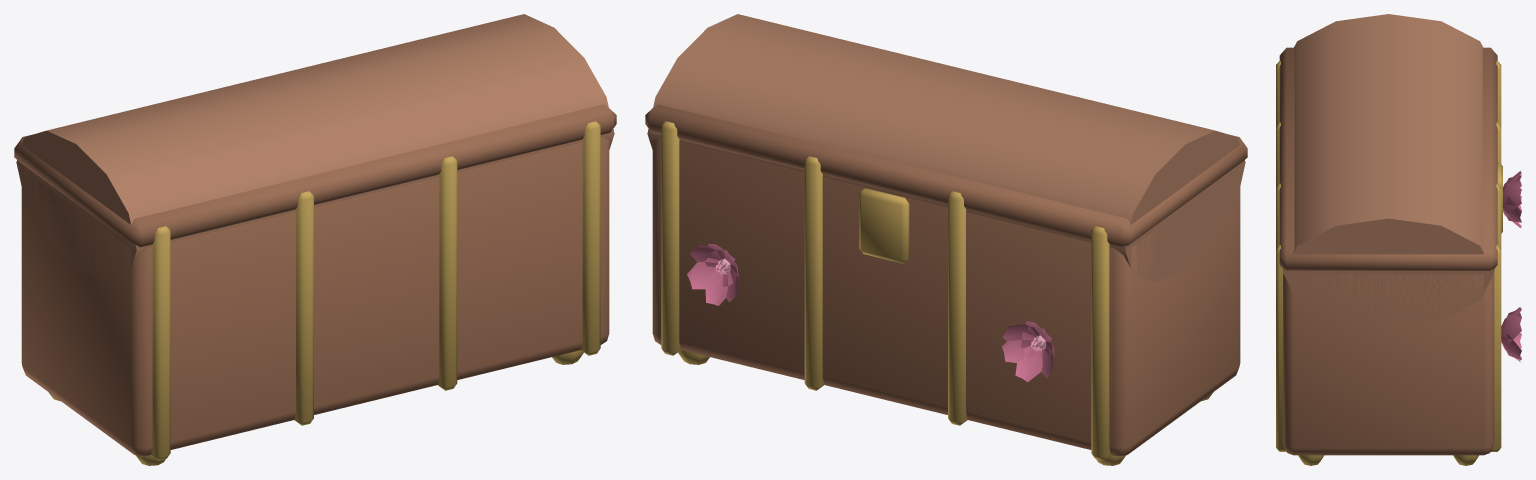
Rendered from cradle_chest.glb.
The picture shows the model from 3 angles, left to right: view 1: azimuth 30°, elevation 25°; view 2: azimuth 150°, elevation 25°; view 3: azimuth 270°, elevation 25°; orthographic projection. The views are drawn at different scales.
Parts seen in each view (by area): view 1: cradle_chest; view 2: cradle_chest; view 3: cradle_chest.
Part boxes in pixels (x1,y1,x2,y2): cradle_chest: (14, 14, 616, 465); cradle_chest: (645, 14, 1247, 465); cradle_chest: (1276, 14, 1521, 465).
Size of what is drawn, in the model's own units: 1.2 by 0.7 by 0.6.
